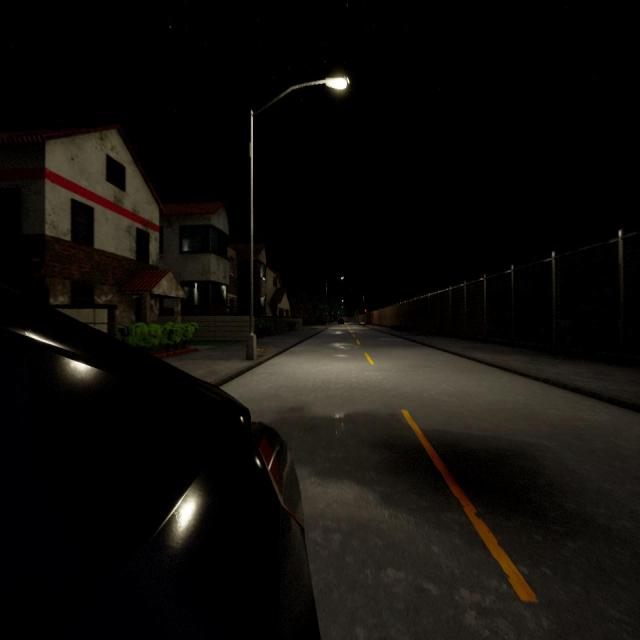Vehicle: (0, 286, 319, 637), (338, 318, 344, 326), (345, 320, 349, 324)
traffic_light: (364, 310, 366, 316)
